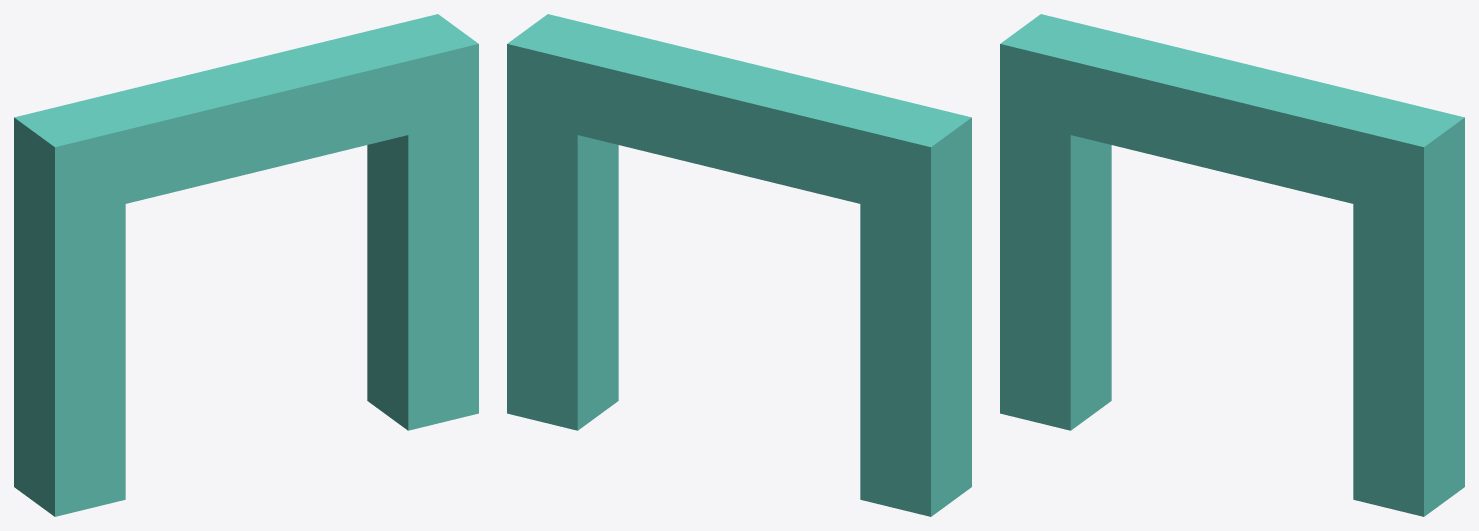
The model's file is demo-doorway.gltf.
3 views of the same model, side by side, from view 1: azimuth 30°, elevation 25°; view 2: azimuth 150°, elevation 25°; view 3: azimuth 330°, elevation 25° (orthographic).
Size of the model in its own units: 6 by 5 by 1.
